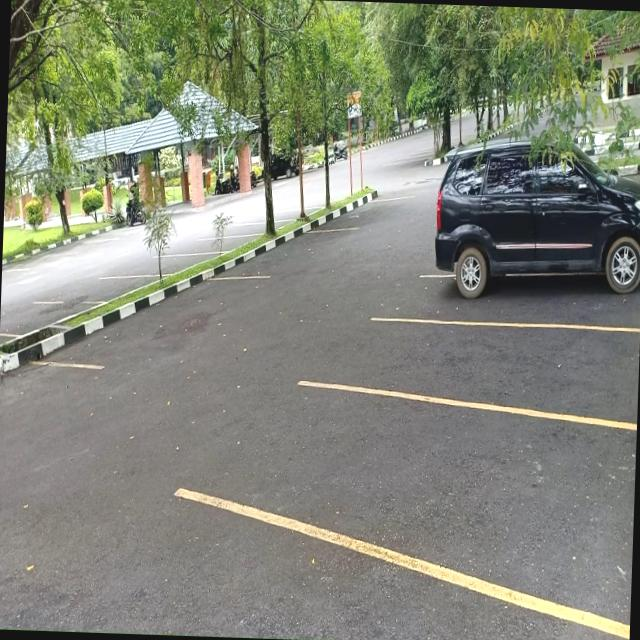car: (428, 195, 640, 331)
free: (292, 396, 637, 600), (370, 314, 640, 424), (36, 270, 270, 363), (255, 225, 337, 281), (83, 273, 137, 308), (145, 252, 197, 278), (195, 234, 250, 256)
